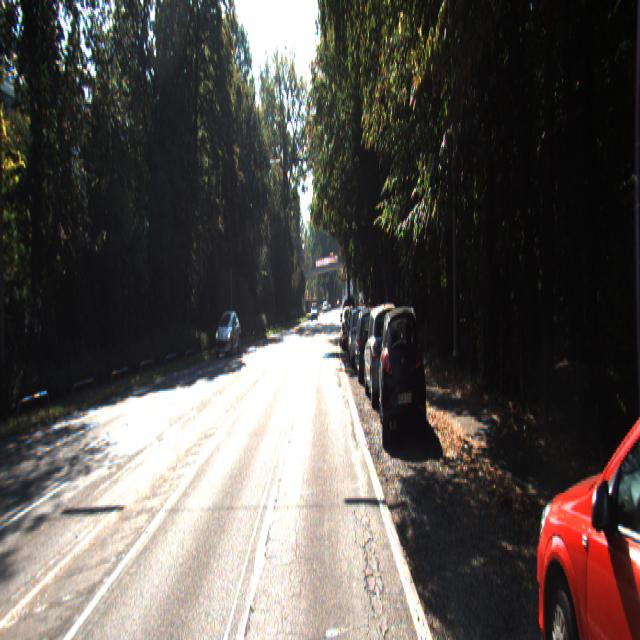Car: (523, 308, 639, 638), (378, 299, 428, 443), (363, 304, 406, 408), (354, 307, 382, 383), (348, 306, 374, 370), (214, 311, 241, 360), (342, 306, 357, 348)
